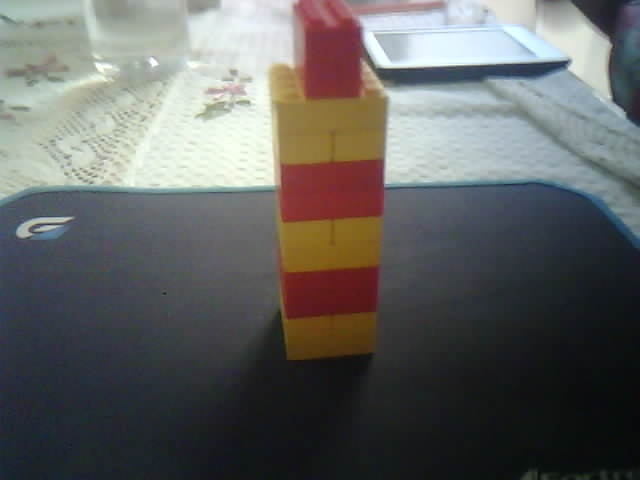lego: (265, 1, 390, 363)
